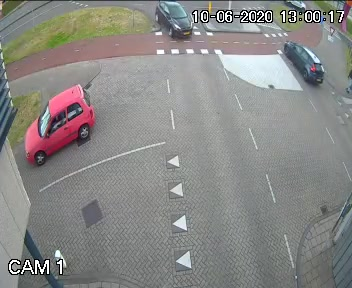car: (17, 79, 100, 165), (274, 36, 328, 88), (150, 4, 193, 44)
